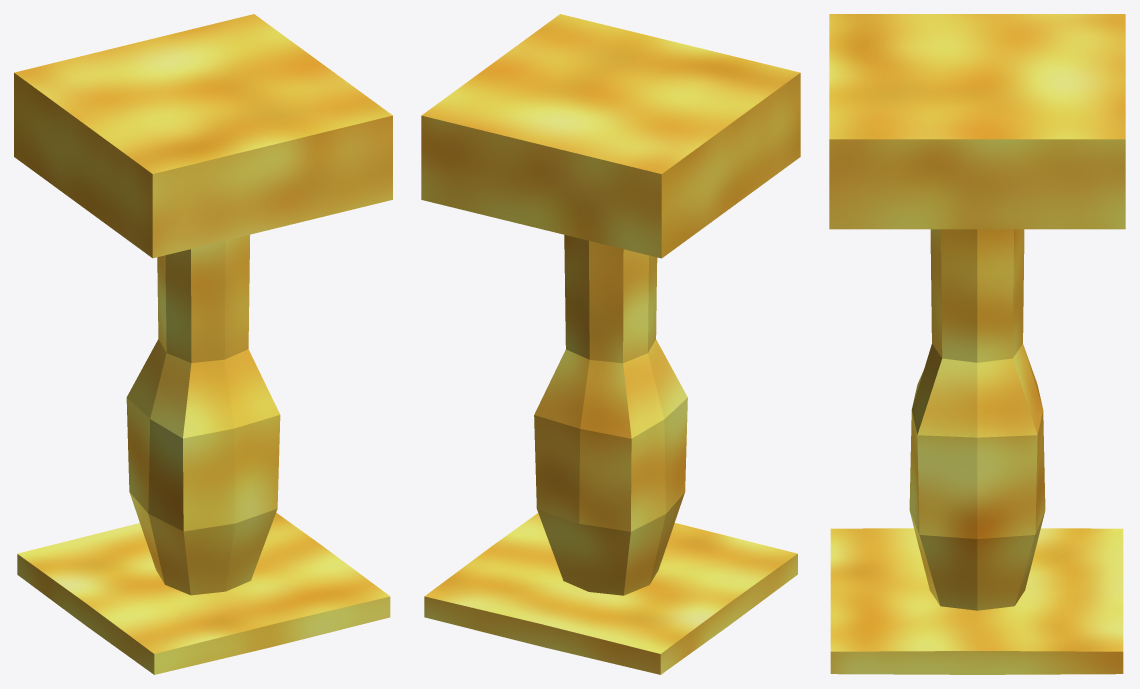
Rendered from Pillar.fbx.
3 views of the same model, side by side, from view 1: azimuth 30°, elevation 25°; view 2: azimuth 150°, elevation 25°; view 3: azimuth 270°, elevation 25° (orthographic). The views are drawn at different scales.
Visible parts, largest first — view 1: 2x1 Pillar; view 2: 2x1 Pillar; view 3: 2x1 Pillar.
Boxes of the visible parts, x1,y1,x2,y2 form: 2x1 Pillar: [14, 14, 392, 674]; 2x1 Pillar: [421, 14, 800, 674]; 2x1 Pillar: [829, 14, 1125, 674].
Bounding box in the file's own units: 200 × 400 × 200.
Materials: 1 (1 with a texture image).
